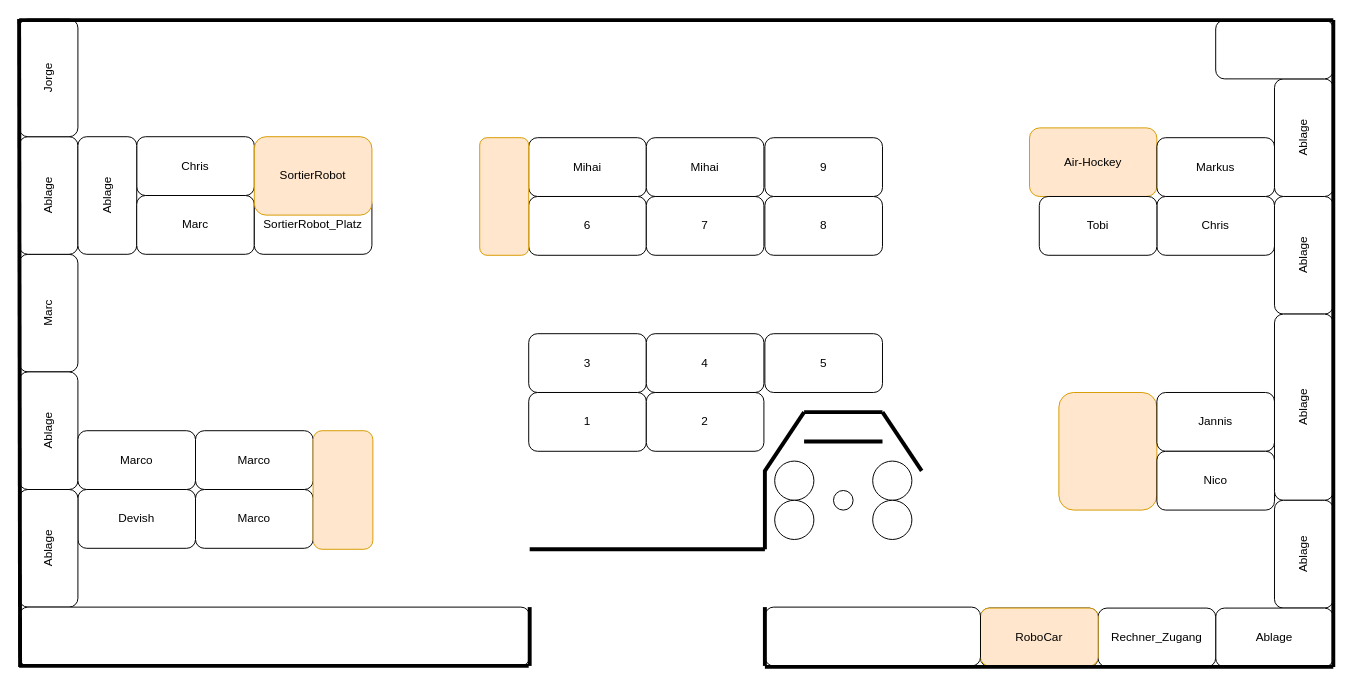
This 1352x686 diagram has some shape labels left out. Each missing label, with the box of its shape:
Cafe-Küche: (764, 606, 980, 666)
CoBot: (1058, 392, 1157, 510)
GPU-Power: (312, 430, 373, 549)
Lager: (1215, 19, 1333, 79)
Schrank Marco: (18, 606, 530, 666)
Scooter: (479, 137, 529, 255)
